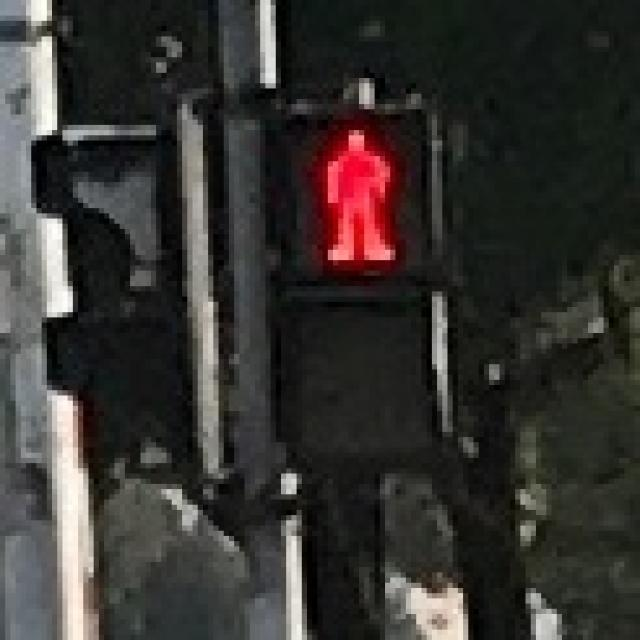red-crossing: (255, 98, 437, 270)
